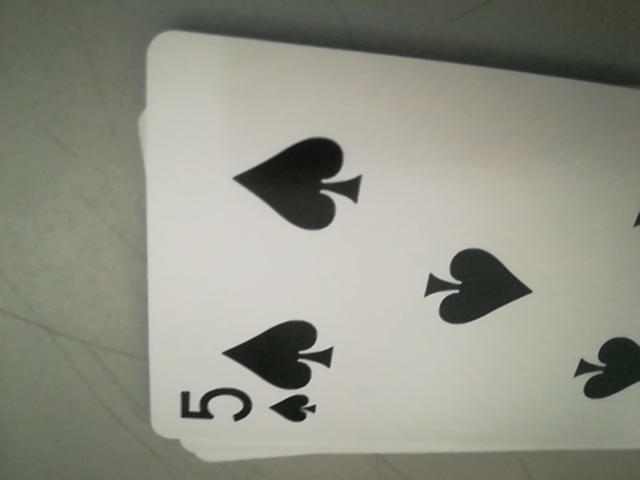ht 5: (172, 381, 330, 444)
